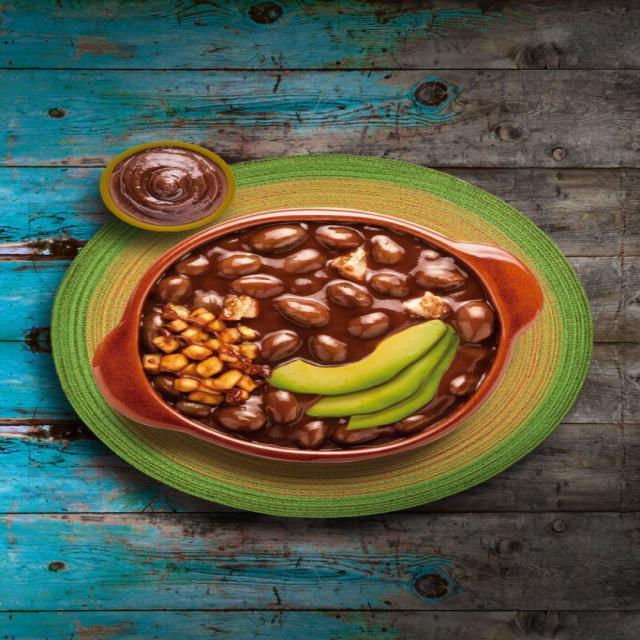aguacate: (264, 325, 451, 433)
frijoles: (212, 216, 492, 330)
